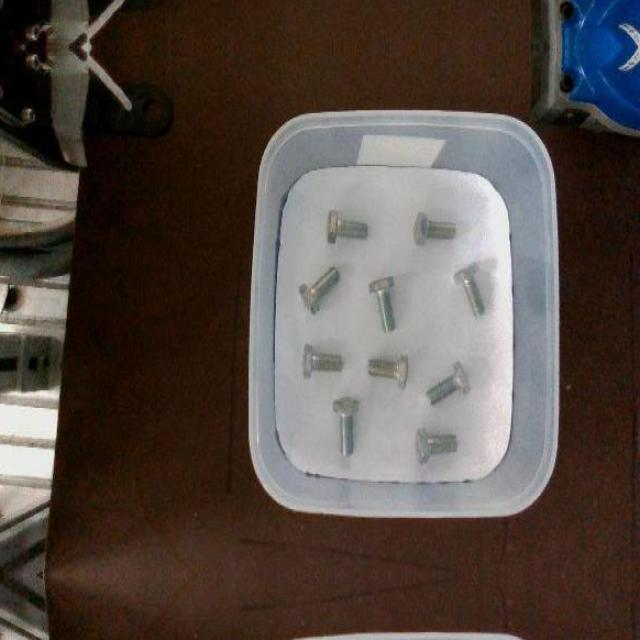screw: (426, 359, 472, 404), (299, 265, 340, 313), (454, 262, 486, 317), (332, 396, 359, 456), (416, 426, 458, 464), (368, 276, 396, 332), (366, 353, 408, 390), (414, 212, 456, 248), (300, 342, 342, 377), (326, 208, 368, 241)
